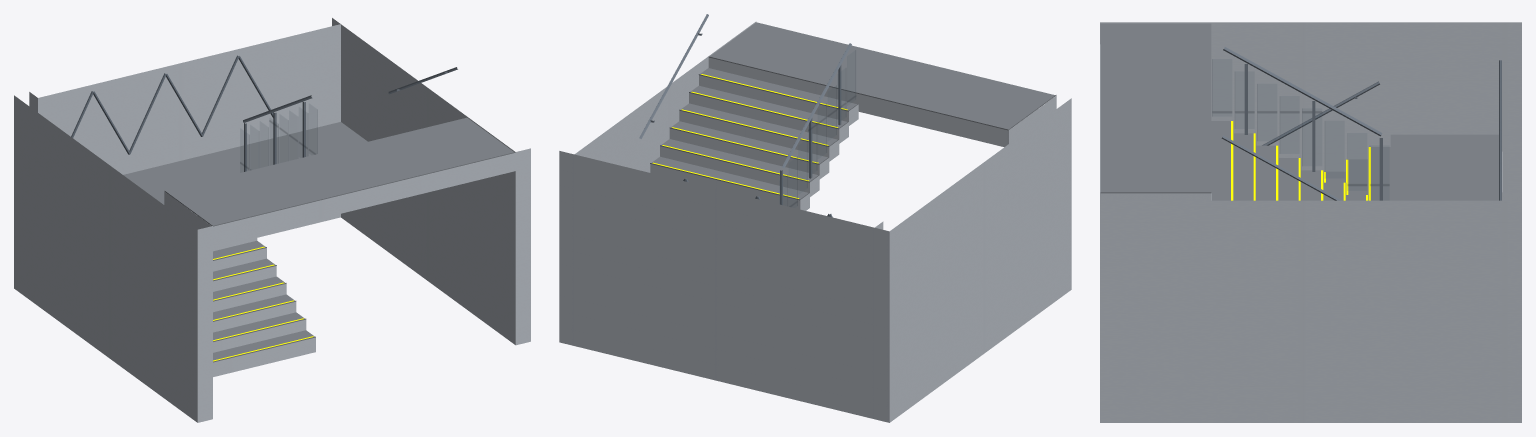
File: v4_upper.glb
The picture shows the model from 3 angles, left to right: view 1: azimuth 30°, elevation 25°; view 2: azimuth 150°, elevation 25°; view 3: azimuth 270°, elevation 25°; orthographic projection. The views are drawn at different scales.
Visible parts, largest first — view 1: Core_Walls, Top_Landing_Slate, Top_Landing, Flight1_Modules, Mid_Landing_Slate, Treads_Slate, Wall_Lattice, Nosing_Emergency, Guard_Posts, Guard_Glass_Centre; view 2: Core_Walls, Top_Landing_Slate, Flight2_Modules, Treads_Slate, Top_Landing, Nosing_Emergency, Guard_Posts, Guard_Glass_Centre, Guard_Cap_Rail, Handrail_Wall; view 3: Core_Walls, Top_Landing_Slate, Treads_Slate, Mid_Landing_Slate, Nosing_Emergency, Handrail_Wall, Top_Landing, Guard_Cap_Rail, Guard_Posts, Guard_Glass_Centre, Wall_Lattice.
Boxes of the visible parts, left/top/right/bottom form: Core_Walls: left=14, top=18, right=530, bottom=422; Top_Landing_Slate: left=164, top=117, right=515, bottom=226; Top_Landing: left=164, top=153, right=515, bottom=244; Flight1_Modules: left=213, top=234, right=315, bottom=376; Mid_Landing_Slate: left=123, top=122, right=367, bottom=204; Treads_Slate: left=213, top=240, right=315, bottom=362; Wall_Lattice: left=71, top=55, right=273, bottom=154; Nosing_Emergency: left=213, top=246, right=313, bottom=361; Guard_Posts: left=244, top=102, right=305, bottom=171; Guard_Glass_Centre: left=240, top=110, right=317, bottom=169; Core_Walls: left=559, top=21, right=1071, bottom=422; Top_Landing_Slate: left=708, top=22, right=1056, bottom=130; Flight2_Modules: left=650, top=75, right=858, bottom=210; Treads_Slate: left=650, top=68, right=858, bottom=200; Top_Landing: left=708, top=57, right=1056, bottom=147; Nosing_Emergency: left=652, top=74, right=847, bottom=198; Guard_Posts: left=780, top=65, right=841, bottom=205; Guard_Glass_Centre: left=787, top=50, right=855, bottom=206; Guard_Cap_Rail: left=782, top=43, right=851, bottom=168; Handrail_Wall: left=639, top=14, right=708, bottom=138; Core_Walls: left=1100, top=22, right=1521, bottom=422; Top_Landing_Slate: left=1100, top=23, right=1211, bottom=193; Treads_Slate: left=1211, top=121, right=1390, bottom=200; Mid_Landing_Slate: left=1390, top=134, right=1498, bottom=200; Nosing_Emergency: left=1231, top=121, right=1370, bottom=200; Handrail_Wall: left=1221, top=81, right=1379, bottom=200; Top_Landing: left=1100, top=44, right=1210, bottom=200; Guard_Cap_Rail: left=1223, top=47, right=1382, bottom=136; Guard_Posts: left=1244, top=64, right=1382, bottom=200; Guard_Glass_Centre: left=1212, top=59, right=1389, bottom=199; Wall_Lattice: left=1499, top=60, right=1501, bottom=200.
Size of what is drawn, in the model's own units: 5.5 by 3.98 by 5.25.
6 materials, 4 textured.
